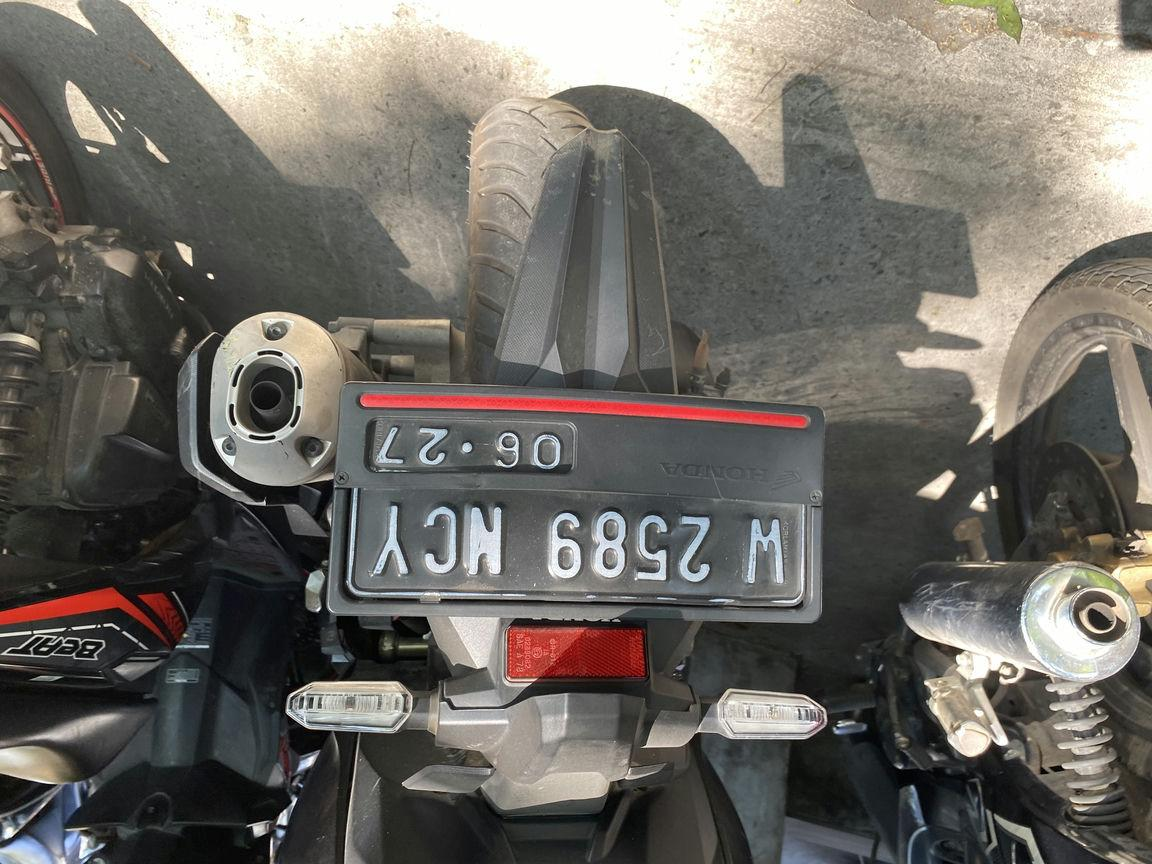plat: (328, 243, 824, 481)
